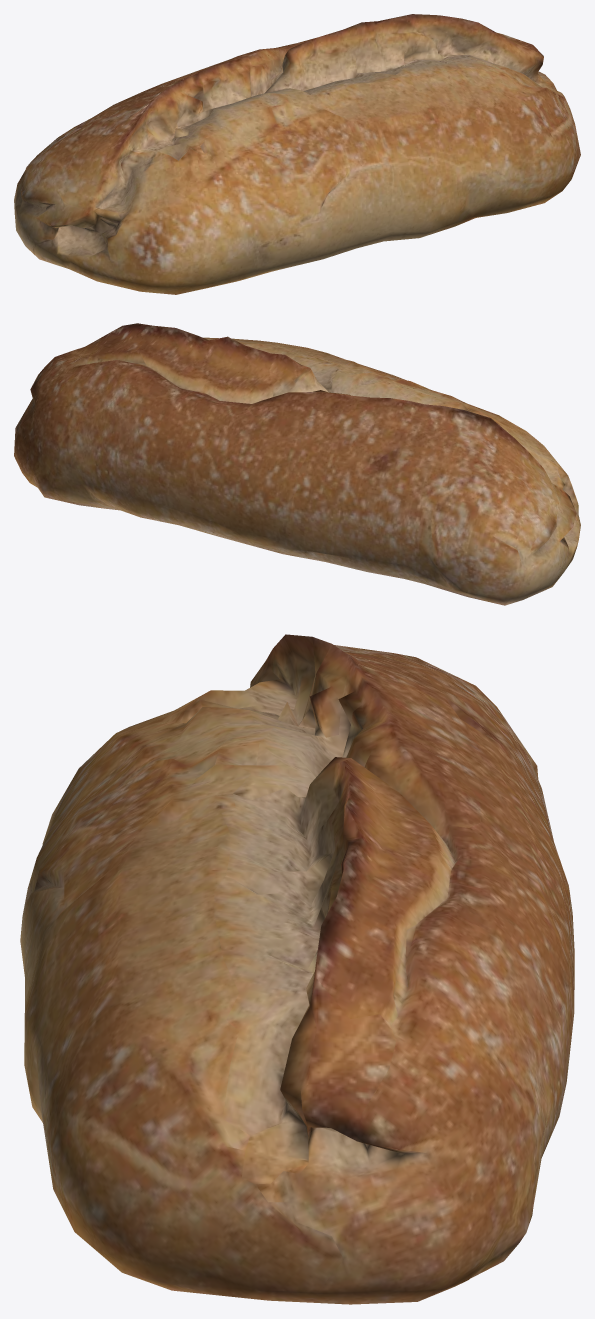
Rendered from bread_c.glb.
3 renders of one model, top to bottom at view 1: azimuth 30°, elevation 25°; view 2: azimuth 150°, elevation 25°; view 3: azimuth 270°, elevation 25°, orthographic. The views are drawn at different scales.
Parts seen in each view (by area): view 1: whplehh_LOD0_TIER2_000; view 2: whplehh_LOD0_TIER2_000; view 3: whplehh_LOD0_TIER2_000.
Boxes of the visible parts, box(x1,y1,x2,y2) form: whplehh_LOD0_TIER2_000: box(14, 14, 580, 294); whplehh_LOD0_TIER2_000: box(14, 323, 580, 605); whplehh_LOD0_TIER2_000: box(20, 634, 574, 1304).
Size of the model in its own units: 0.3501 by 0.1078 by 0.1607.
Materials: 1 (1 with a texture image).
